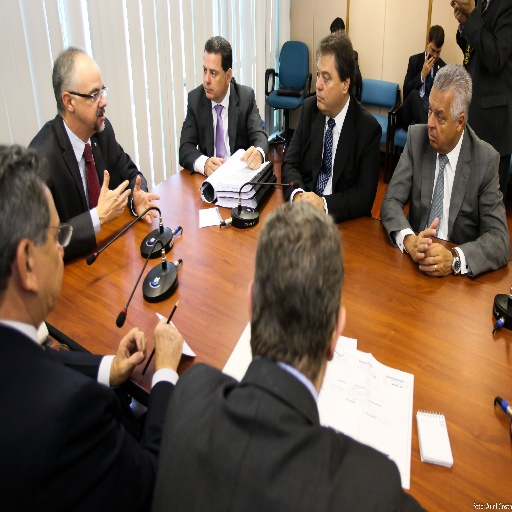hand: (99, 335, 143, 396), (94, 169, 132, 224), (131, 174, 160, 226), (153, 315, 183, 364), (409, 215, 439, 262), (418, 242, 453, 278), (238, 143, 261, 172), (298, 189, 324, 211), (204, 153, 226, 176), (421, 52, 434, 78)
